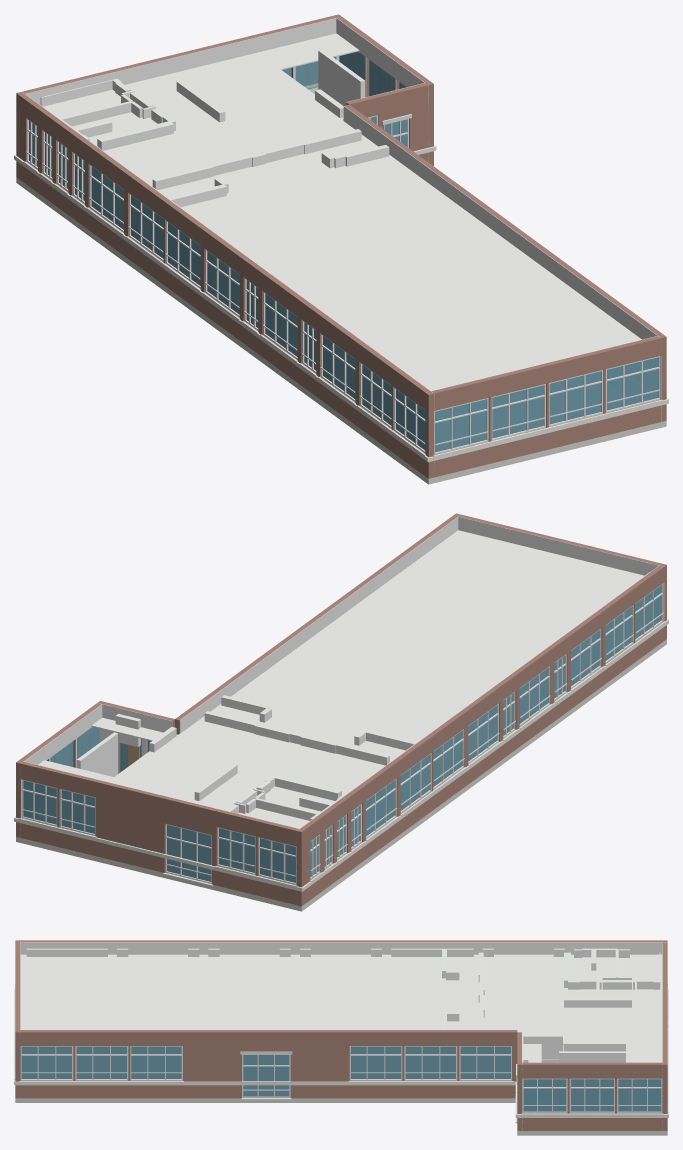
File: info_1F.glb
3 views of the same model, one above another, from view 1: azimuth 30°, elevation 25°; view 2: azimuth 150°, elevation 25°; view 3: azimuth 270°, elevation 25° (orthographic). The views are drawn at different scales.
Parts seen in each view (by area): view 1: info_1F__ceil, info_1F__brick, info_1F__wallIn, info_1F__glass, info_1F__frameW, info_1F__white, info_1F__corrFloor, info_1F__rail; view 2: info_1F__ceil, info_1F__brick, info_1F__wallIn, info_1F__glass, info_1F__frameW, info_1F__white, info_1F__corrFloor, info_1F__rail; view 3: info_1F__ceil, info_1F__brick, info_1F__glass, info_1F__wallIn, info_1F__frameW, info_1F__white, info_1F__corrFloor, info_1F__rail.
Boxes of the visible parts, x1=… form: info_1F__ceil: x1=43, y1=33, x2=641, y2=390; info_1F__brick: x1=16, y1=14, x2=666, y2=478; info_1F__wallIn: x1=19, y1=16, x2=662, y2=439; info_1F__glass: x1=29, y1=51, x2=658, y2=452; info_1F__frameW: x1=26, y1=115, x2=660, y2=454; info_1F__white: x1=14, y1=114, x2=668, y2=462; info_1F__corrFloor: x1=16, y1=177, x2=666, y2=484; info_1F__rail: x1=26, y1=151, x2=660, y2=445; info_1F__ceil: x1=38, y1=530, x2=644, y2=828; info_1F__brick: x1=16, y1=513, x2=666, y2=906; info_1F__wallIn: x1=20, y1=514, x2=664, y2=901; info_1F__glass: x1=23, y1=585, x2=661, y2=882; info_1F__frameW: x1=21, y1=583, x2=663, y2=884; info_1F__white: x1=14, y1=619, x2=668, y2=891; info_1F__corrFloor: x1=16, y1=639, x2=666, y2=911; info_1F__rail: x1=21, y1=612, x2=663, y2=876; info_1F__ceil: x1=20, y1=954, x2=662, y2=1062; info_1F__brick: x1=15, y1=940, x2=667, y2=1130; info_1F__glass: x1=21, y1=1046, x2=661, y2=1111; info_1F__wallIn: x1=18, y1=941, x2=665, y2=1130; info_1F__frameW: x1=20, y1=1046, x2=662, y2=1113; info_1F__white: x1=14, y1=989, x2=668, y2=1123; info_1F__corrFloor: x1=15, y1=1045, x2=667, y2=1135; info_1F__rail: x1=15, y1=983, x2=667, y2=1105.
Bounding box in the file's own units: 14.64 × 3.85 × 32.24.
